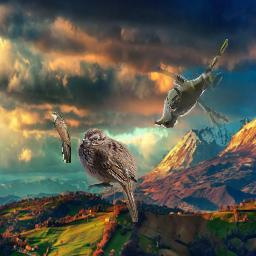Cuckoo: (154, 40, 228, 129), (49, 111, 71, 163)
Sparrow: (78, 128, 139, 222)
